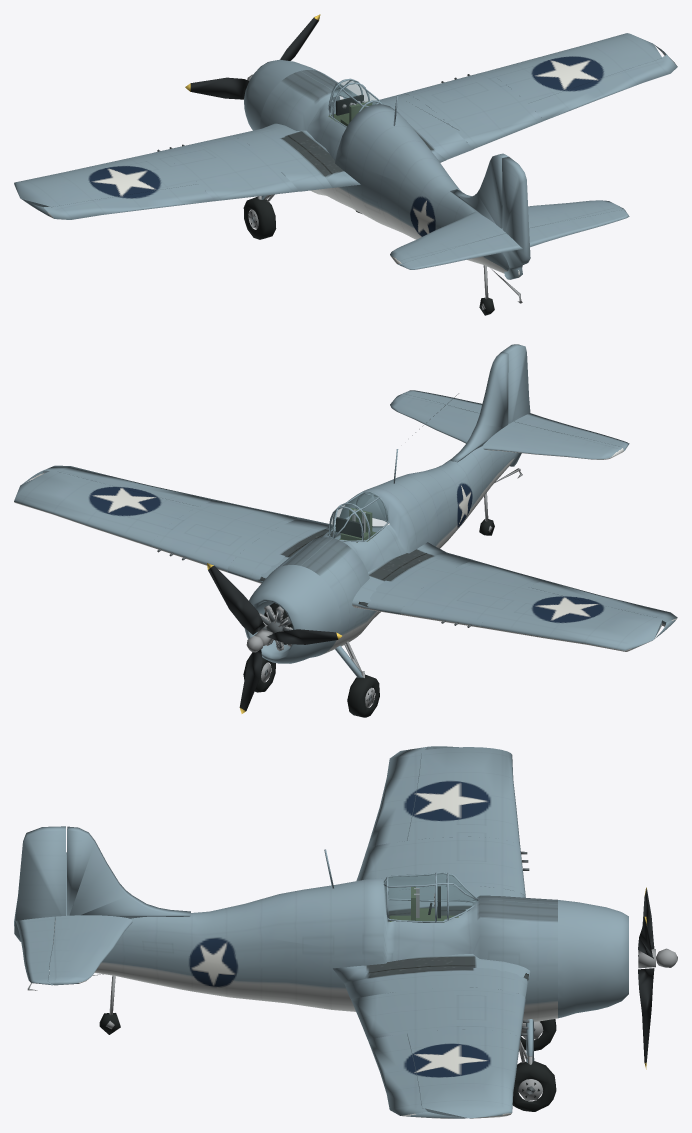
The picture shows the model from 3 angles, top to bottom: view 1: azimuth 30°, elevation 25°; view 2: azimuth 150°, elevation 25°; view 3: azimuth 270°, elevation 25°; orthographic projection. The views are drawn at different scales.
Parts seen in each view (by area): view 1: aircraft.root.mesh, wing.fold.starboard.mesh, wing.fold.port.mesh, control.aileron.starboard.mesh, control.aileron.port.mesh, control.rudder.mesh, control.elevator.port.mesh, propeller.spin.mesh, control.elevator.starboard.mesh, gear.port.mesh; view 2: aircraft.root.mesh, wing.fold.starboard.mesh, wing.fold.port.mesh, propeller.spin.mesh, control.rudder.mesh, control.aileron.starboard.mesh, gear.port.mesh, control.aileron.port.mesh, control.elevator.port.mesh, control.elevator.starboard.mesh; view 3: aircraft.root.mesh, wing.fold.port.mesh, wing.fold.starboard.mesh, control.rudder.mesh, control.aileron.port.mesh, control.aileron.starboard.mesh, gear.starboard.mesh, propeller.spin.mesh, control.elevator.starboard.mesh, gear.port.mesh.
Boxes of the visible parts, x1,y1,x2,y2 form: aircraft.root.mesh: (230, 59, 623, 276); wing.fold.starboard.mesh: (404, 33, 677, 148); wing.fold.port.mesh: (14, 136, 299, 218); control.aileron.starboard.mesh: (528, 55, 677, 120); control.aileron.port.mesh: (43, 184, 214, 219); control.rudder.mesh: (502, 157, 530, 279); control.elevator.port.mesh: (397, 233, 522, 269); propeller.spin.mesh: (185, 14, 320, 99); control.elevator.starboard.mesh: (527, 209, 629, 248); gear.port.mesh: (243, 194, 276, 239); aircraft.root.mesh: (227, 352, 623, 663); wing.fold.starboard.mesh: (14, 470, 299, 572); wing.fold.port.mesh: (400, 560, 677, 651); propeller.spin.mesh: (207, 563, 341, 713); control.rudder.mesh: (502, 344, 530, 466); control.aileron.starboard.mesh: (43, 465, 214, 506); gear.port.mesh: (335, 641, 379, 717); control.aileron.port.mesh: (528, 580, 677, 626); control.elevator.port.mesh: (514, 413, 629, 450); control.elevator.starboard.mesh: (399, 390, 482, 413); aircraft.root.mesh: (48, 826, 628, 1023); wing.fold.port.mesh: (356, 746, 529, 897); wing.fold.starboard.mesh: (351, 987, 529, 1118); control.rudder.mesh: (14, 826, 65, 966); control.aileron.port.mesh: (367, 747, 427, 846); control.aileron.starboard.mesh: (368, 1033, 427, 1115); gear.starboard.mesh: (512, 1019, 556, 1111); propeller.spin.mesh: (638, 887, 677, 1069); control.elevator.starboard.mesh: (15, 916, 55, 985); gear.port.mesh: (520, 1019, 556, 1050).
Size of the model in its own units: 11.58 by 3.66 by 8.77.
Materials: 10 (1 with a texture image).
